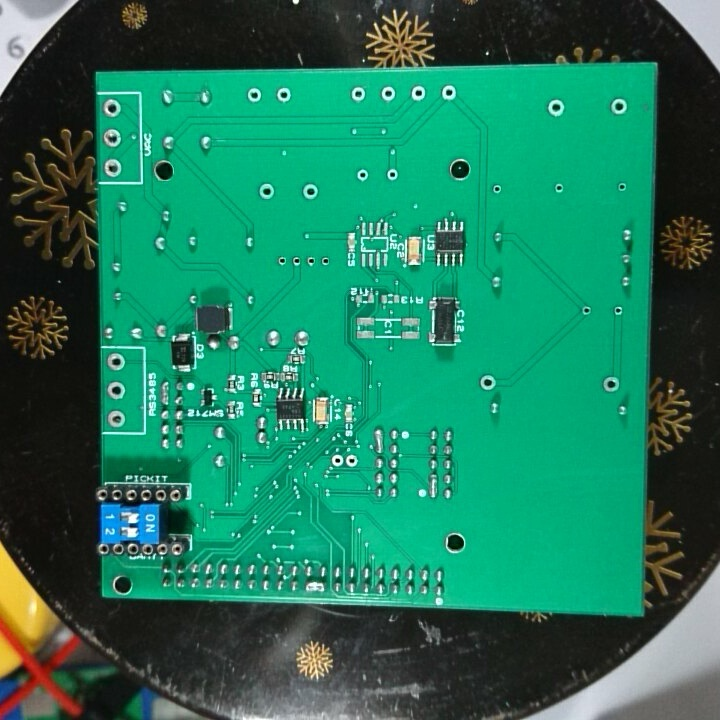F: (104, 350, 128, 374), (600, 372, 622, 398), (545, 95, 567, 120), (101, 97, 124, 119), (101, 126, 123, 149), (102, 155, 123, 177), (609, 94, 629, 117), (478, 372, 500, 392), (106, 406, 126, 428), (347, 85, 370, 104), (376, 83, 397, 103), (300, 181, 321, 201), (439, 81, 458, 101), (258, 181, 276, 201), (383, 165, 404, 182), (106, 381, 127, 398), (344, 450, 360, 472), (579, 302, 599, 319), (275, 85, 292, 104), (245, 86, 264, 103), (407, 83, 427, 99), (610, 303, 628, 320), (354, 167, 371, 184), (316, 251, 333, 268), (328, 451, 345, 468), (288, 253, 304, 271), (305, 251, 319, 271), (551, 180, 567, 197), (275, 250, 288, 269), (489, 181, 505, 196), (616, 178, 629, 196)
P: (372, 424, 387, 455), (159, 377, 172, 408), (302, 578, 327, 594), (427, 471, 440, 501)
